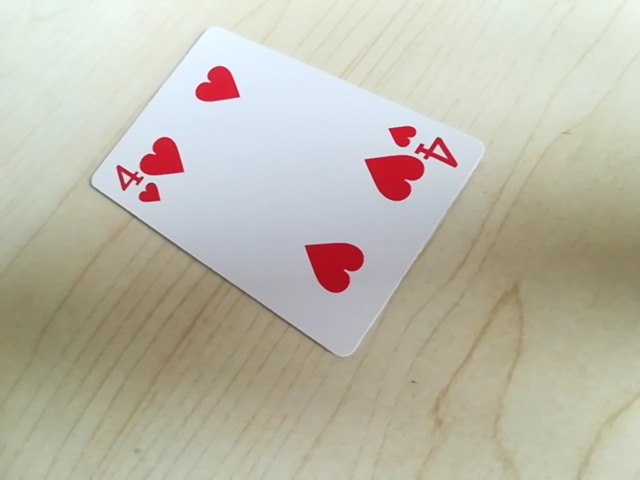hx 4: (381, 121, 462, 164), (107, 163, 174, 210)
